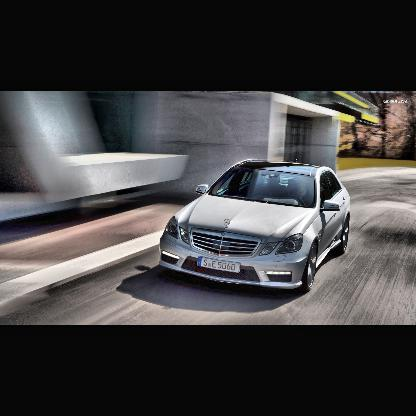Mercedes-Benz E-Class Sedan 2012: (160, 153, 355, 300)
